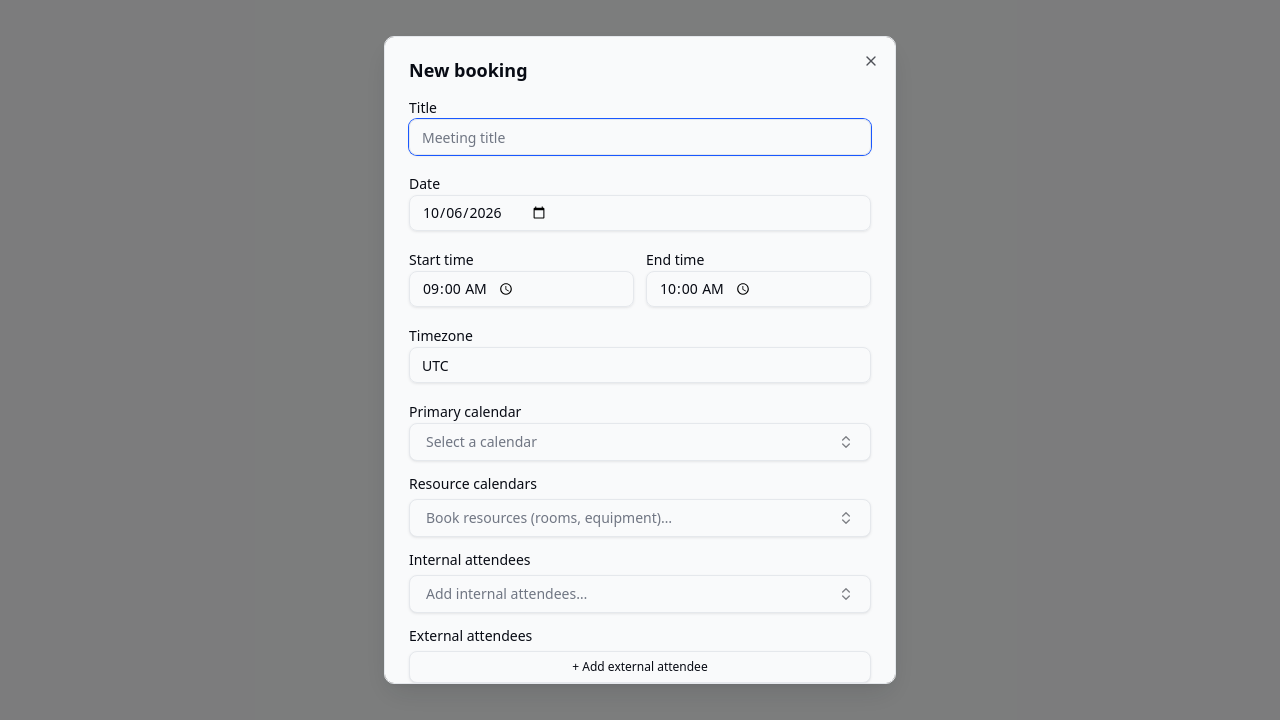
Test case: BookingFormDialog › submit disabled while pending › disables the submit button while pending
Expected: the dropdown named "primary calendar" is shown, [409,423,871,461]
Step 1. Type "Meeting" into the field labelled "Title" → (640, 137), box [409,119,871,155]
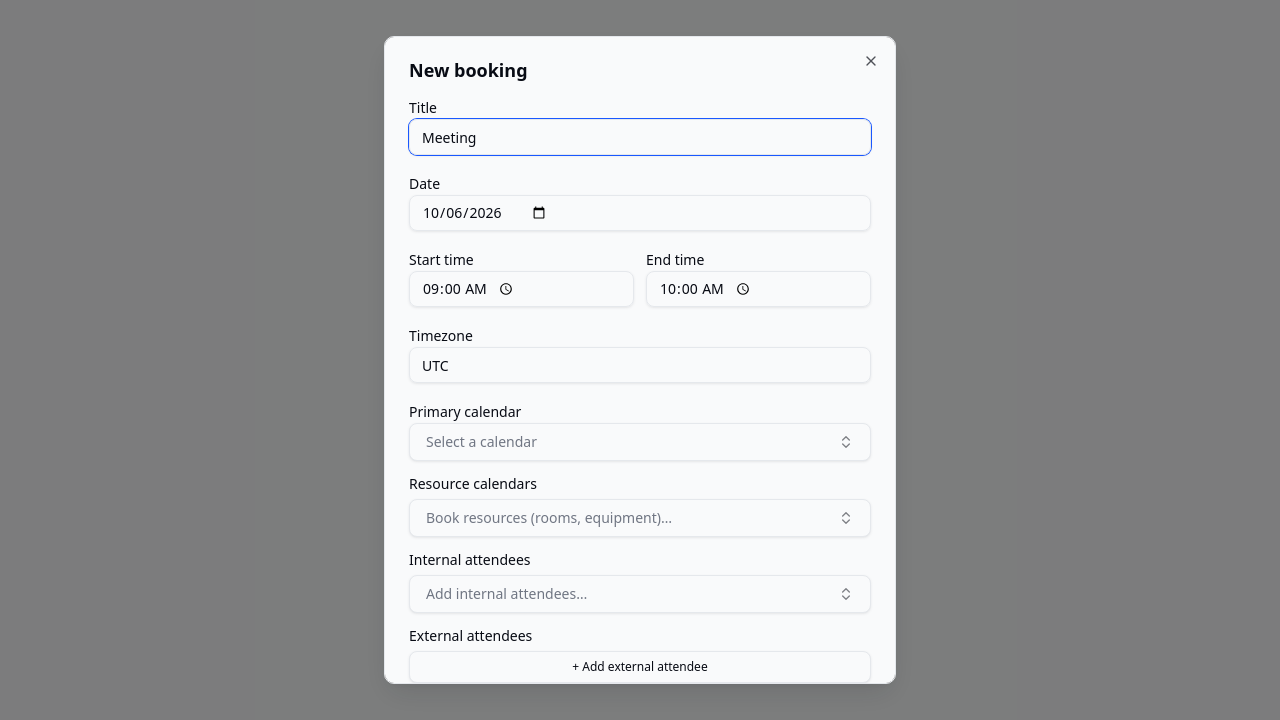
Step 2. Click the dropdown named "primary calendar" → (481, 442), box [409,423,871,461]
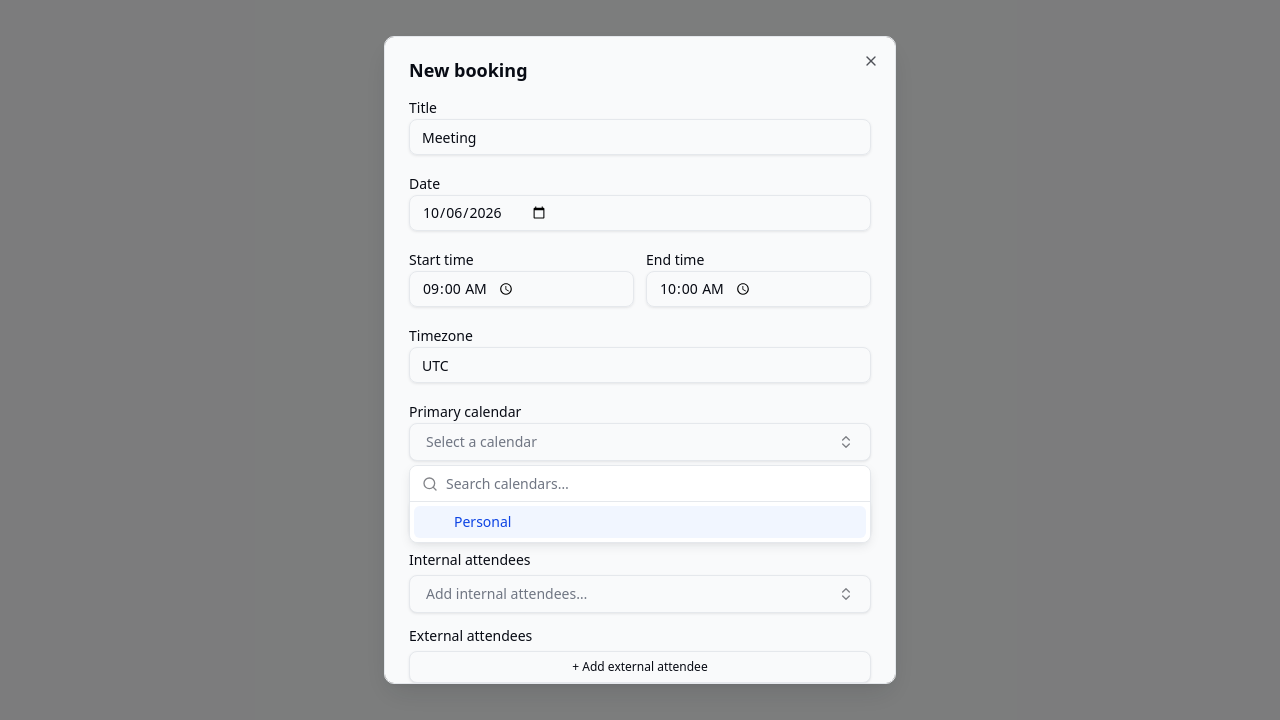
Result: the option "Personal" is shown
Step 3. Click the option "Personal" → (483, 522), box [414,506,866,538]
(page scrolled)
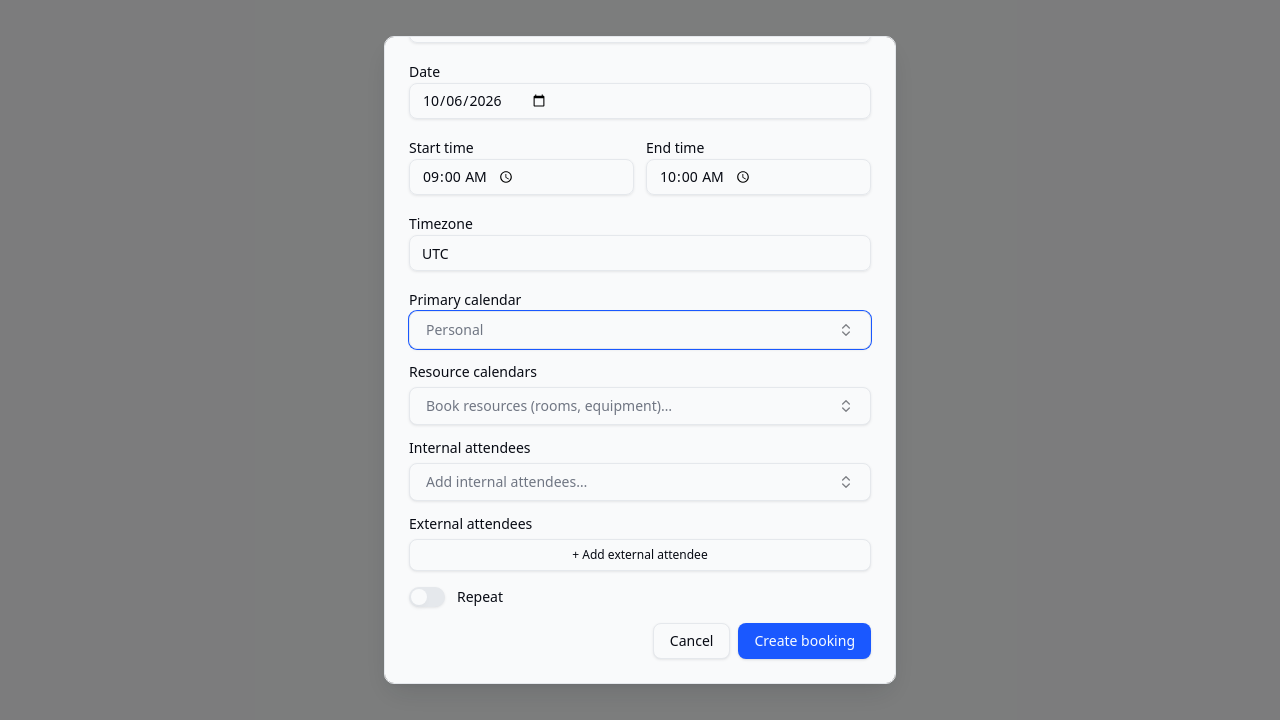
Step 4. Click the button "Create booking" → (805, 641), box [738,623,871,659]
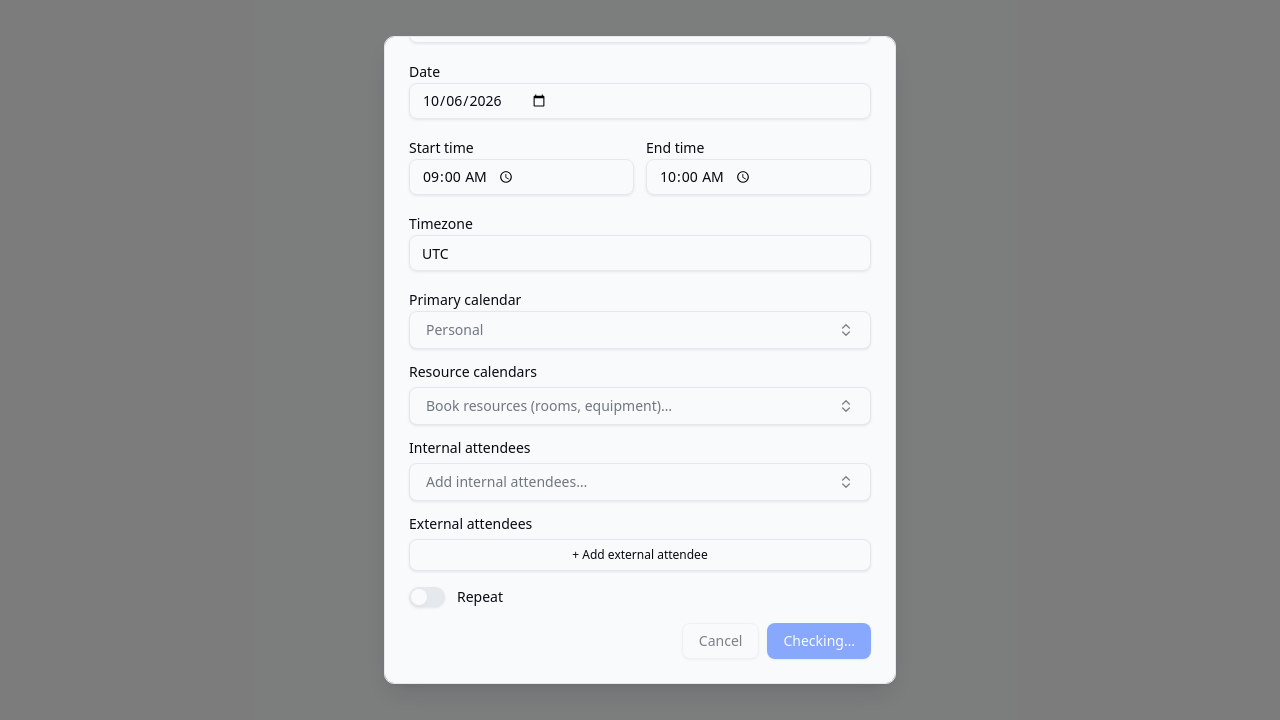
Result: the button "Checking…" is disabled at [768,623,871,659]
